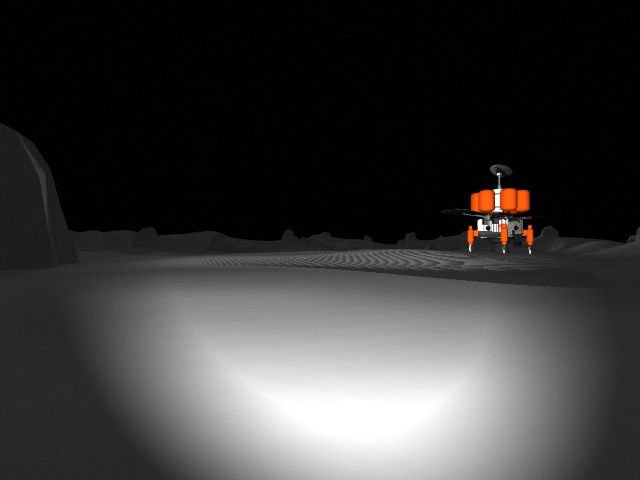homebase: (440, 161, 552, 257)
